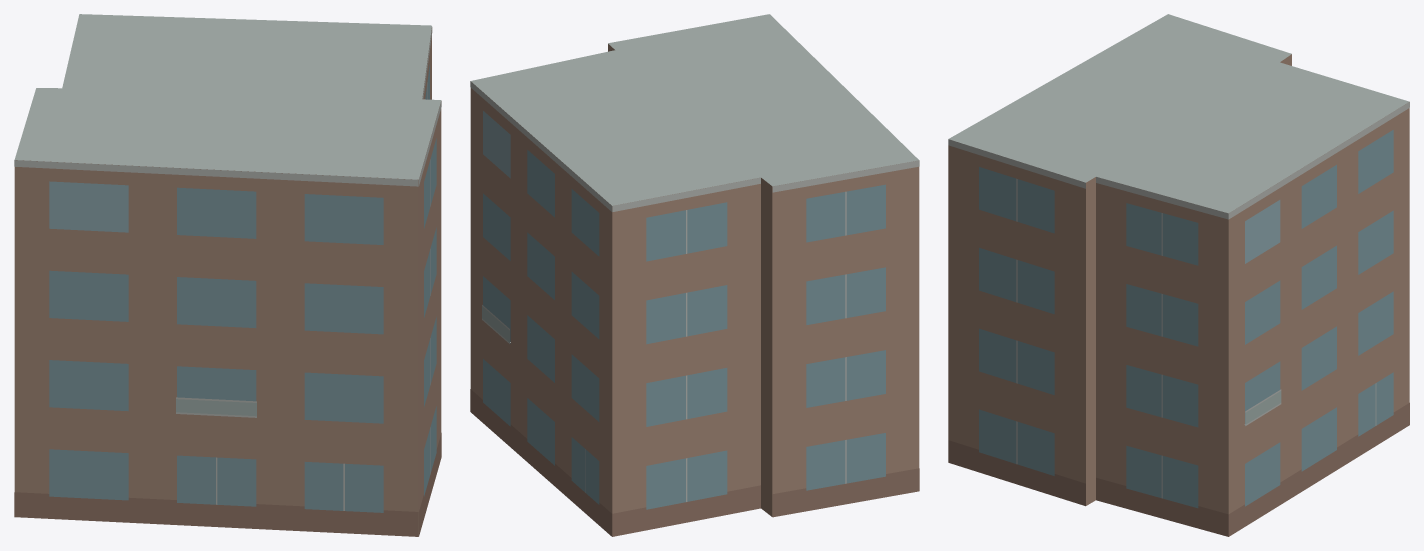
File: survey-upis-32923667.glb
3 renders of one model, left to right at view 1: azimuth 30°, elevation 25°; view 2: azimuth 150°, elevation 25°; view 3: azimuth 270°, elevation 25°, orthographic. The views are drawn at different scales.
Parts seen in each view (by area): view 1: survey-upis-32923667.tmp; view 2: survey-upis-32923667.tmp; view 3: survey-upis-32923667.tmp.
Boxes of the visible parts, left/top/right/bottom form: survey-upis-32923667.tmp: left=14, top=14, right=441, bottom=536; survey-upis-32923667.tmp: left=470, top=14, right=919, bottom=536; survey-upis-32923667.tmp: left=948, top=14, right=1409, bottom=536.
Bounding box in the file's own units: 16.93 × 12.8 × 16.56.
